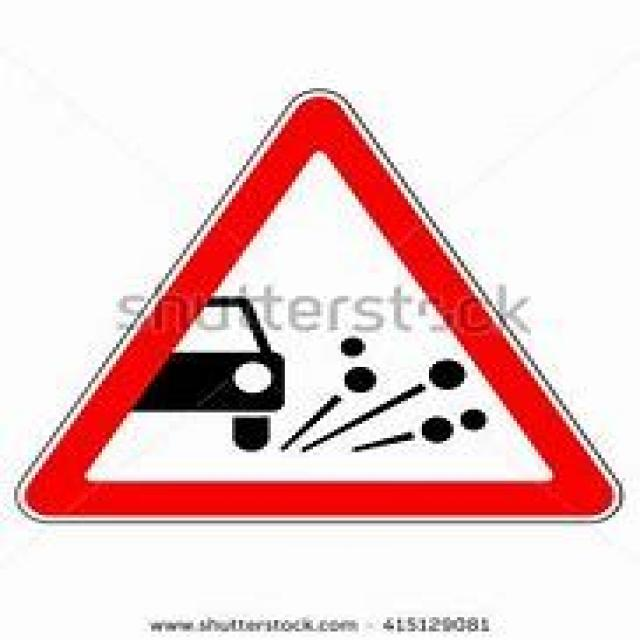LOOSE_GRAVEL: (14, 88, 619, 515)
